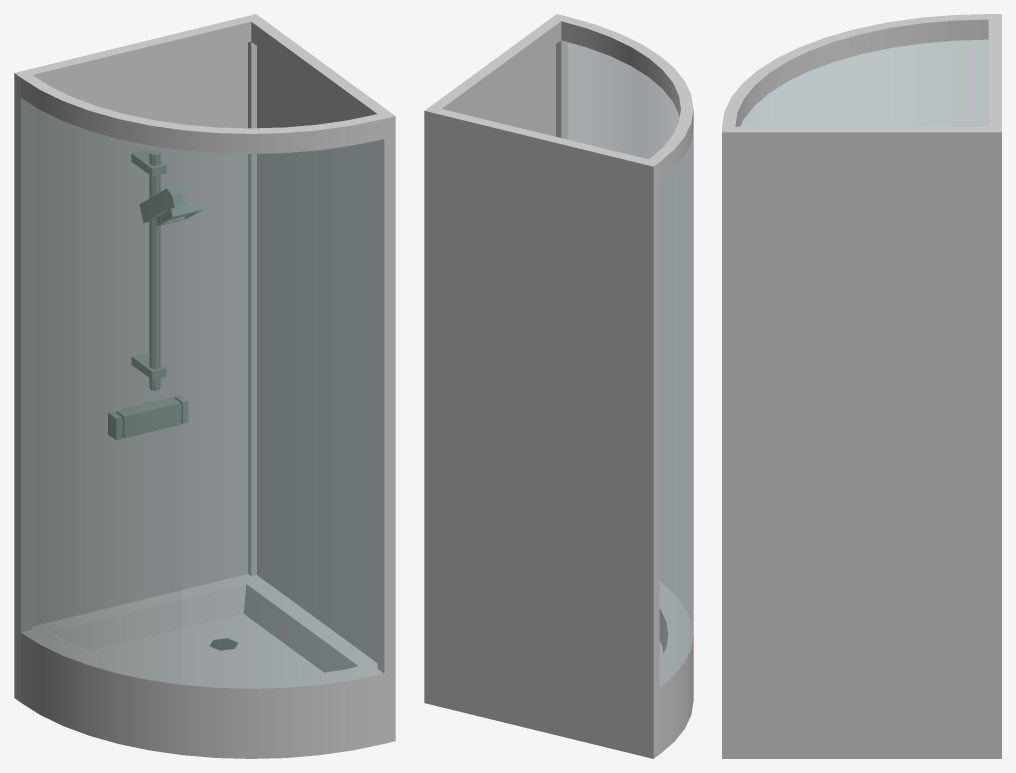
File: shower.glb
3 renders of one model, left to right at view 1: azimuth 30°, elevation 25°; view 2: azimuth 150°, elevation 25°; view 3: azimuth 270°, elevation 25°, orthographic. The views are drawn at different scales.
Visible parts, largest first — view 1: showerRound(Clone), doorRight, doorLeft, faucet; view 2: showerRound(Clone), doorRight, doorLeft; view 3: showerRound(Clone), doorLeft, doorRight.
Boxes of the visible parts, x1,y1,x2,y2 form: showerRound(Clone): [14, 14, 395, 758]; doorRight: [182, 139, 384, 688]; doorLeft: [21, 98, 182, 684]; faucet: [108, 150, 203, 440]; showerRound(Clone): [424, 14, 693, 758]; doorRight: [567, 42, 684, 605]; doorLeft: [659, 128, 693, 687]; showerRound(Clone): [722, 14, 1001, 758]; doorLeft: [800, 39, 988, 126]; doorRight: [740, 76, 799, 126].
Size of the model in its own units: 0.85 by 2.1 by 0.85.
